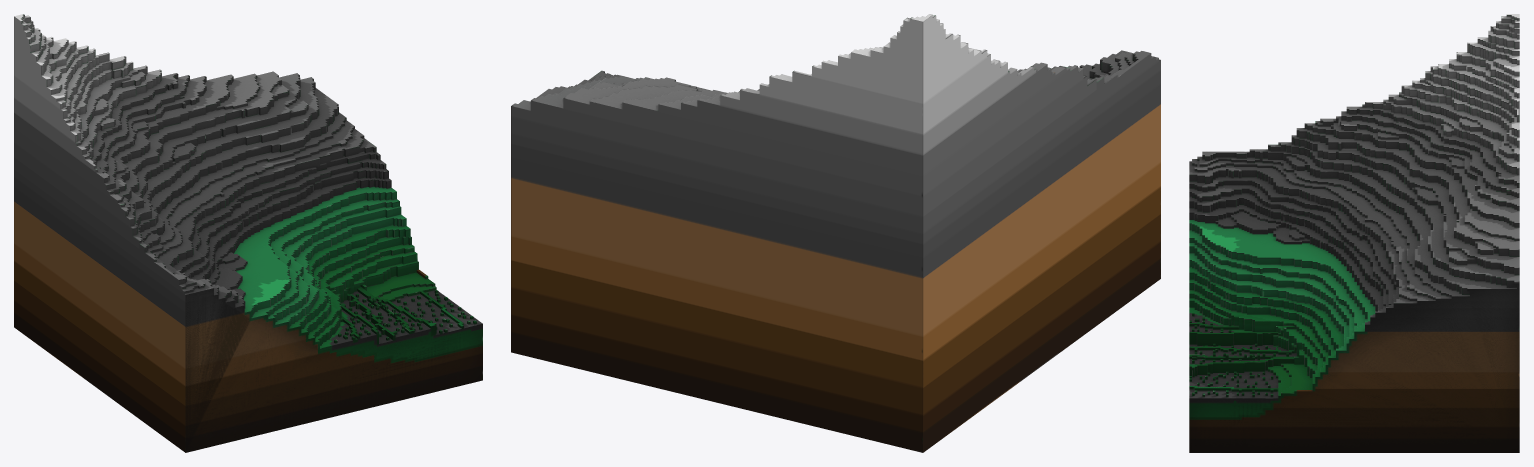
3 views of the same model, side by side, from view 1: azimuth 30°, elevation 25°; view 2: azimuth 150°, elevation 25°; view 3: azimuth 270°, elevation 25° (orthographic). The views are drawn at different scales.
Visible parts, largest first — view 1: _A; view 2: _A; view 3: _A.
Boxes of the visible parts, <box> form: _A: <box>14,14,482,452</box>; _A: <box>511,14,1160,452</box>; _A: <box>1189,14,1519,452</box>.
Size of the model in its own units: 126 by 126 by 126.
Materials: 1 (1 with a texture image).
